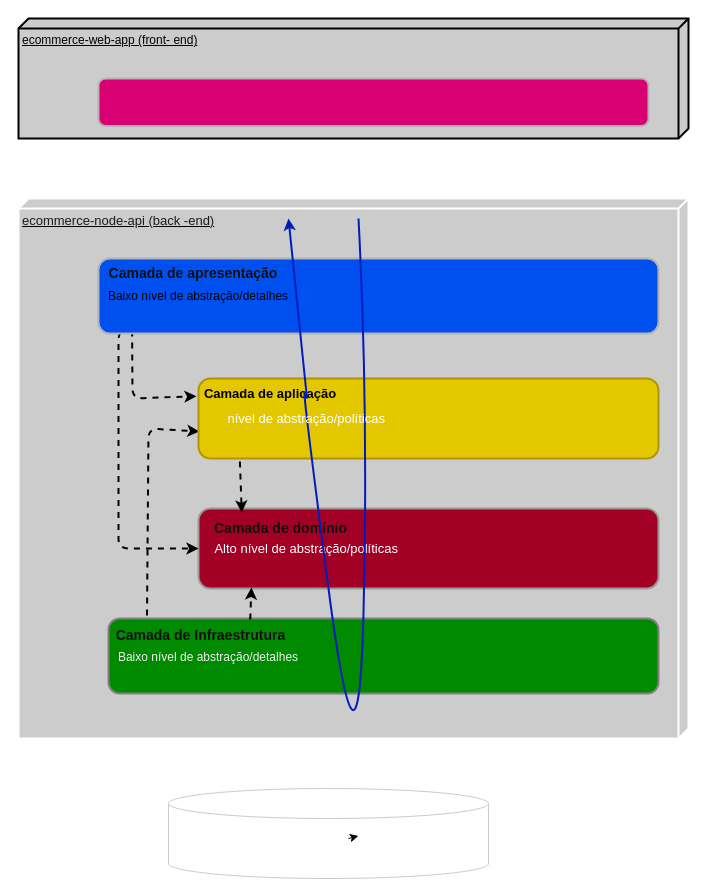
This 706x896 diagram has some shape labels left out. Each missing label, with the centre of its shape:
"Database (Relacional)" goes at [328,833].
"Interface de usúario" goes at [373,101].
